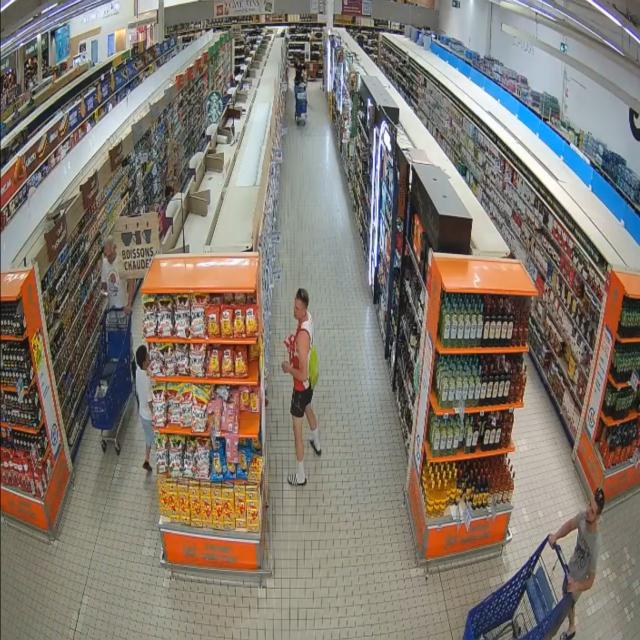article: (288, 334, 295, 344), (284, 337, 290, 348)
bags: (310, 346, 319, 388)
hands: (567, 577, 578, 593), (282, 361, 291, 373), (548, 535, 557, 547), (124, 305, 132, 315), (101, 294, 106, 297)
person: (549, 488, 604, 639), (282, 289, 321, 486), (102, 237, 134, 314), (135, 344, 154, 472)
